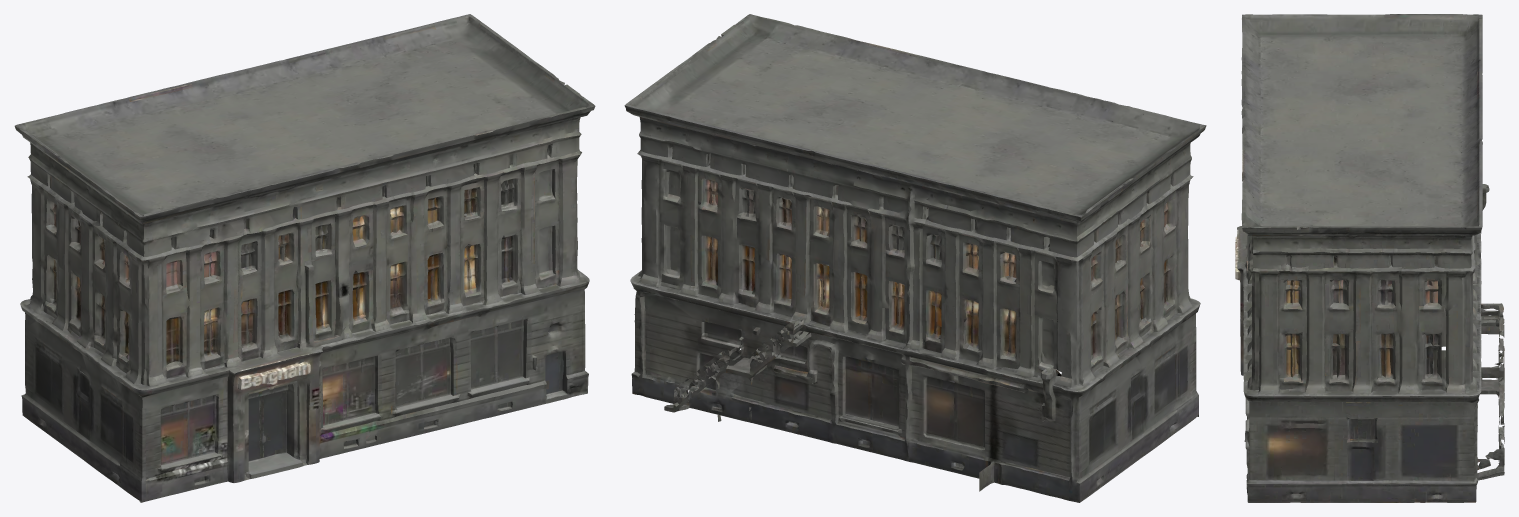
File: building_1.glb
3 views of the same model, side by side, from view 1: azimuth 30°, elevation 25°; view 2: azimuth 150°, elevation 25°; view 3: azimuth 270°, elevation 25° (orthographic). The views are drawn at different scales.
Visible parts, largest first — view 1: Building_1; view 2: Building_1; view 3: Building_1.
Boxes of the visible parts, bbox=[...] form: Building_1: bbox=[14, 14, 595, 502]; Building_1: bbox=[624, 14, 1206, 502]; Building_1: bbox=[1235, 14, 1504, 502].
Bounding box in the file's own units: 1.12 × 0.6835 × 0.6001.
1 material, 1 textured.
